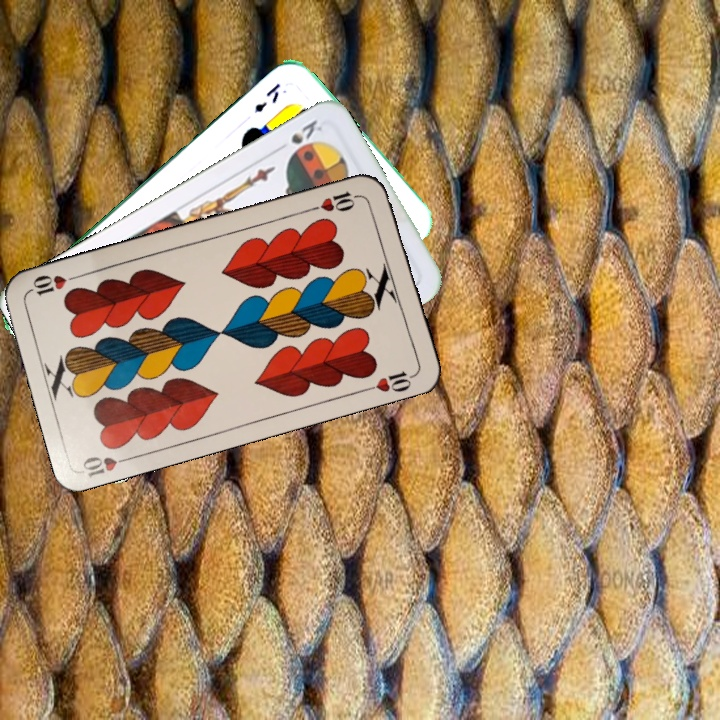EK: (251, 79, 284, 115)
H10: (78, 452, 137, 480), (306, 187, 364, 215)
SK: (272, 115, 325, 154)
